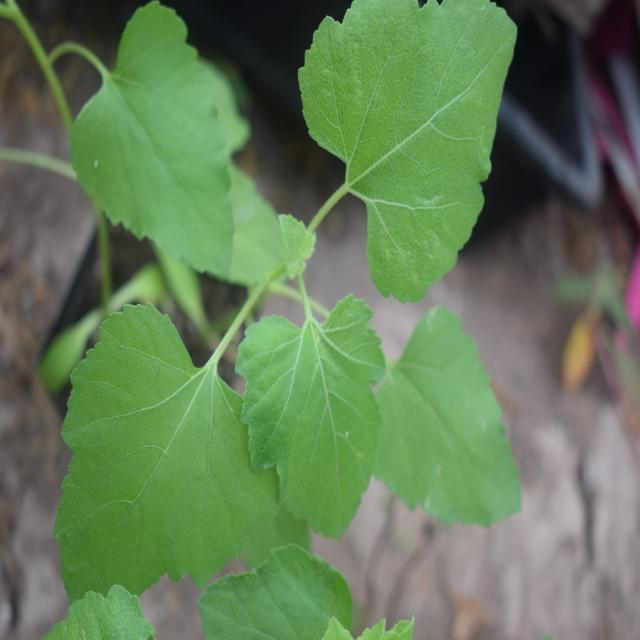cocklebur: (0, 33, 553, 550)
